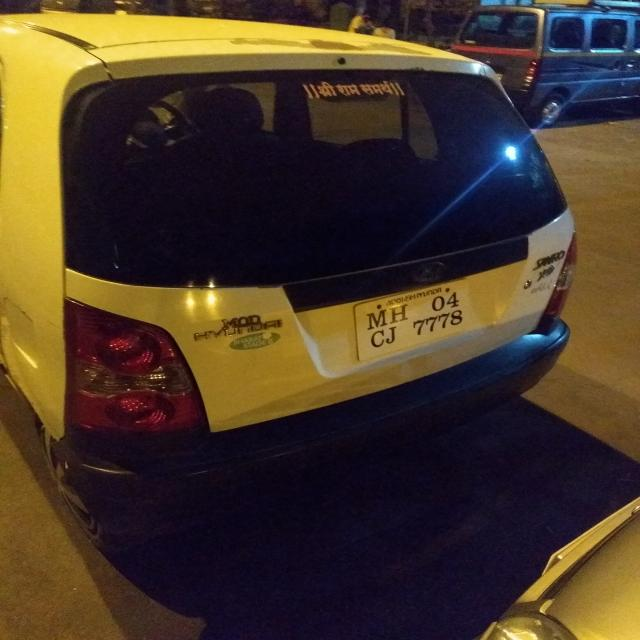Number-Plate: (354, 280, 468, 362)
